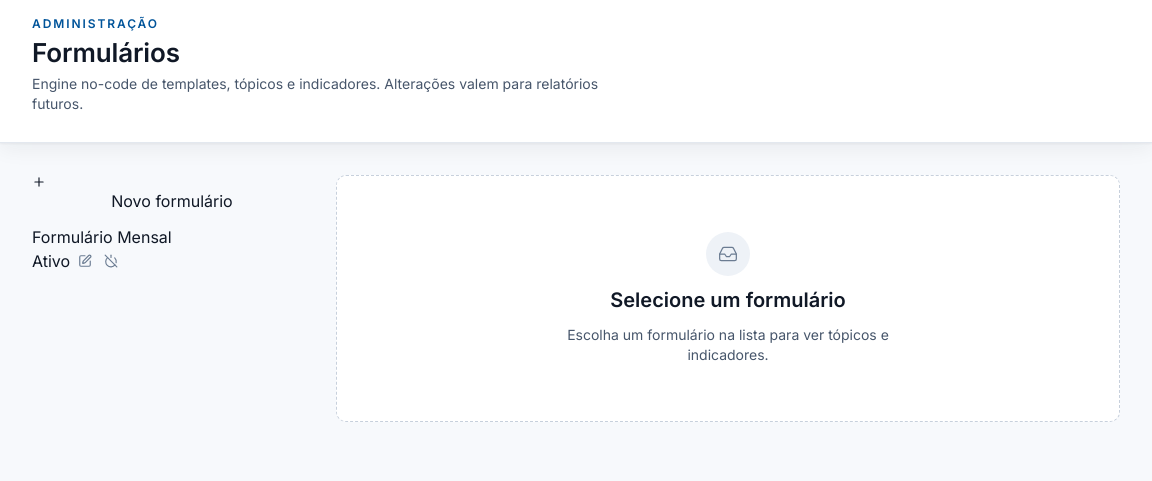
Test: AdminFormsPage › shows a placeholder until a template is selected, then loads its detail
expect the text "Selecione um formulário" is shown: met, box [610,288,846,313]
Click the button "Formulário Mensal" at (102, 237), box [32,225,172,249]
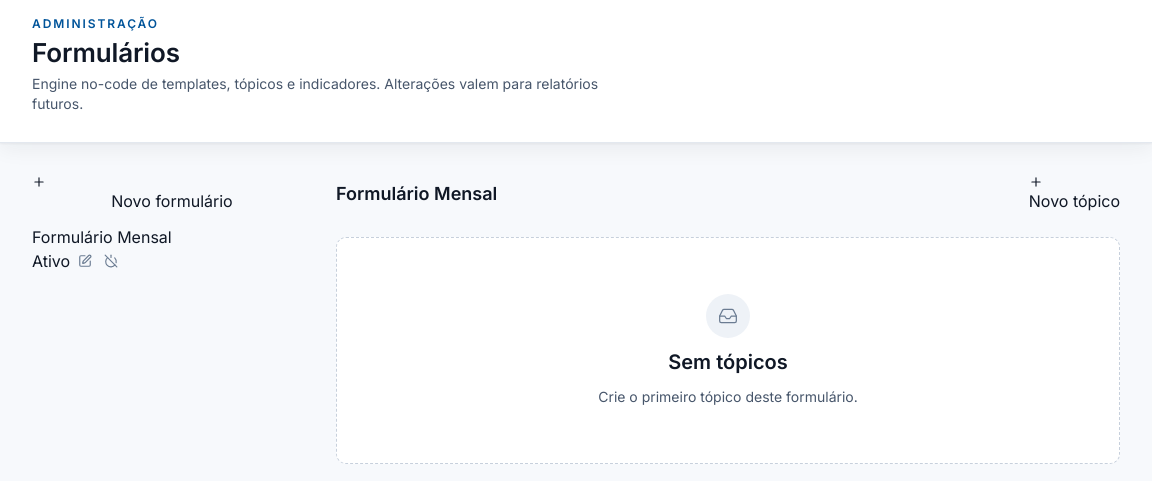
expect the text "Sem tópicos" is shown: met, box [668,350,788,375]
